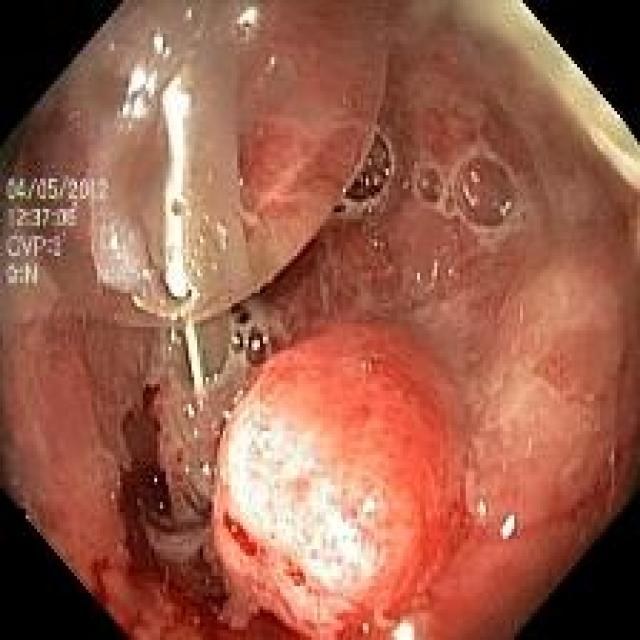Polyps: (0, 0, 640, 637), (212, 321, 466, 638)
